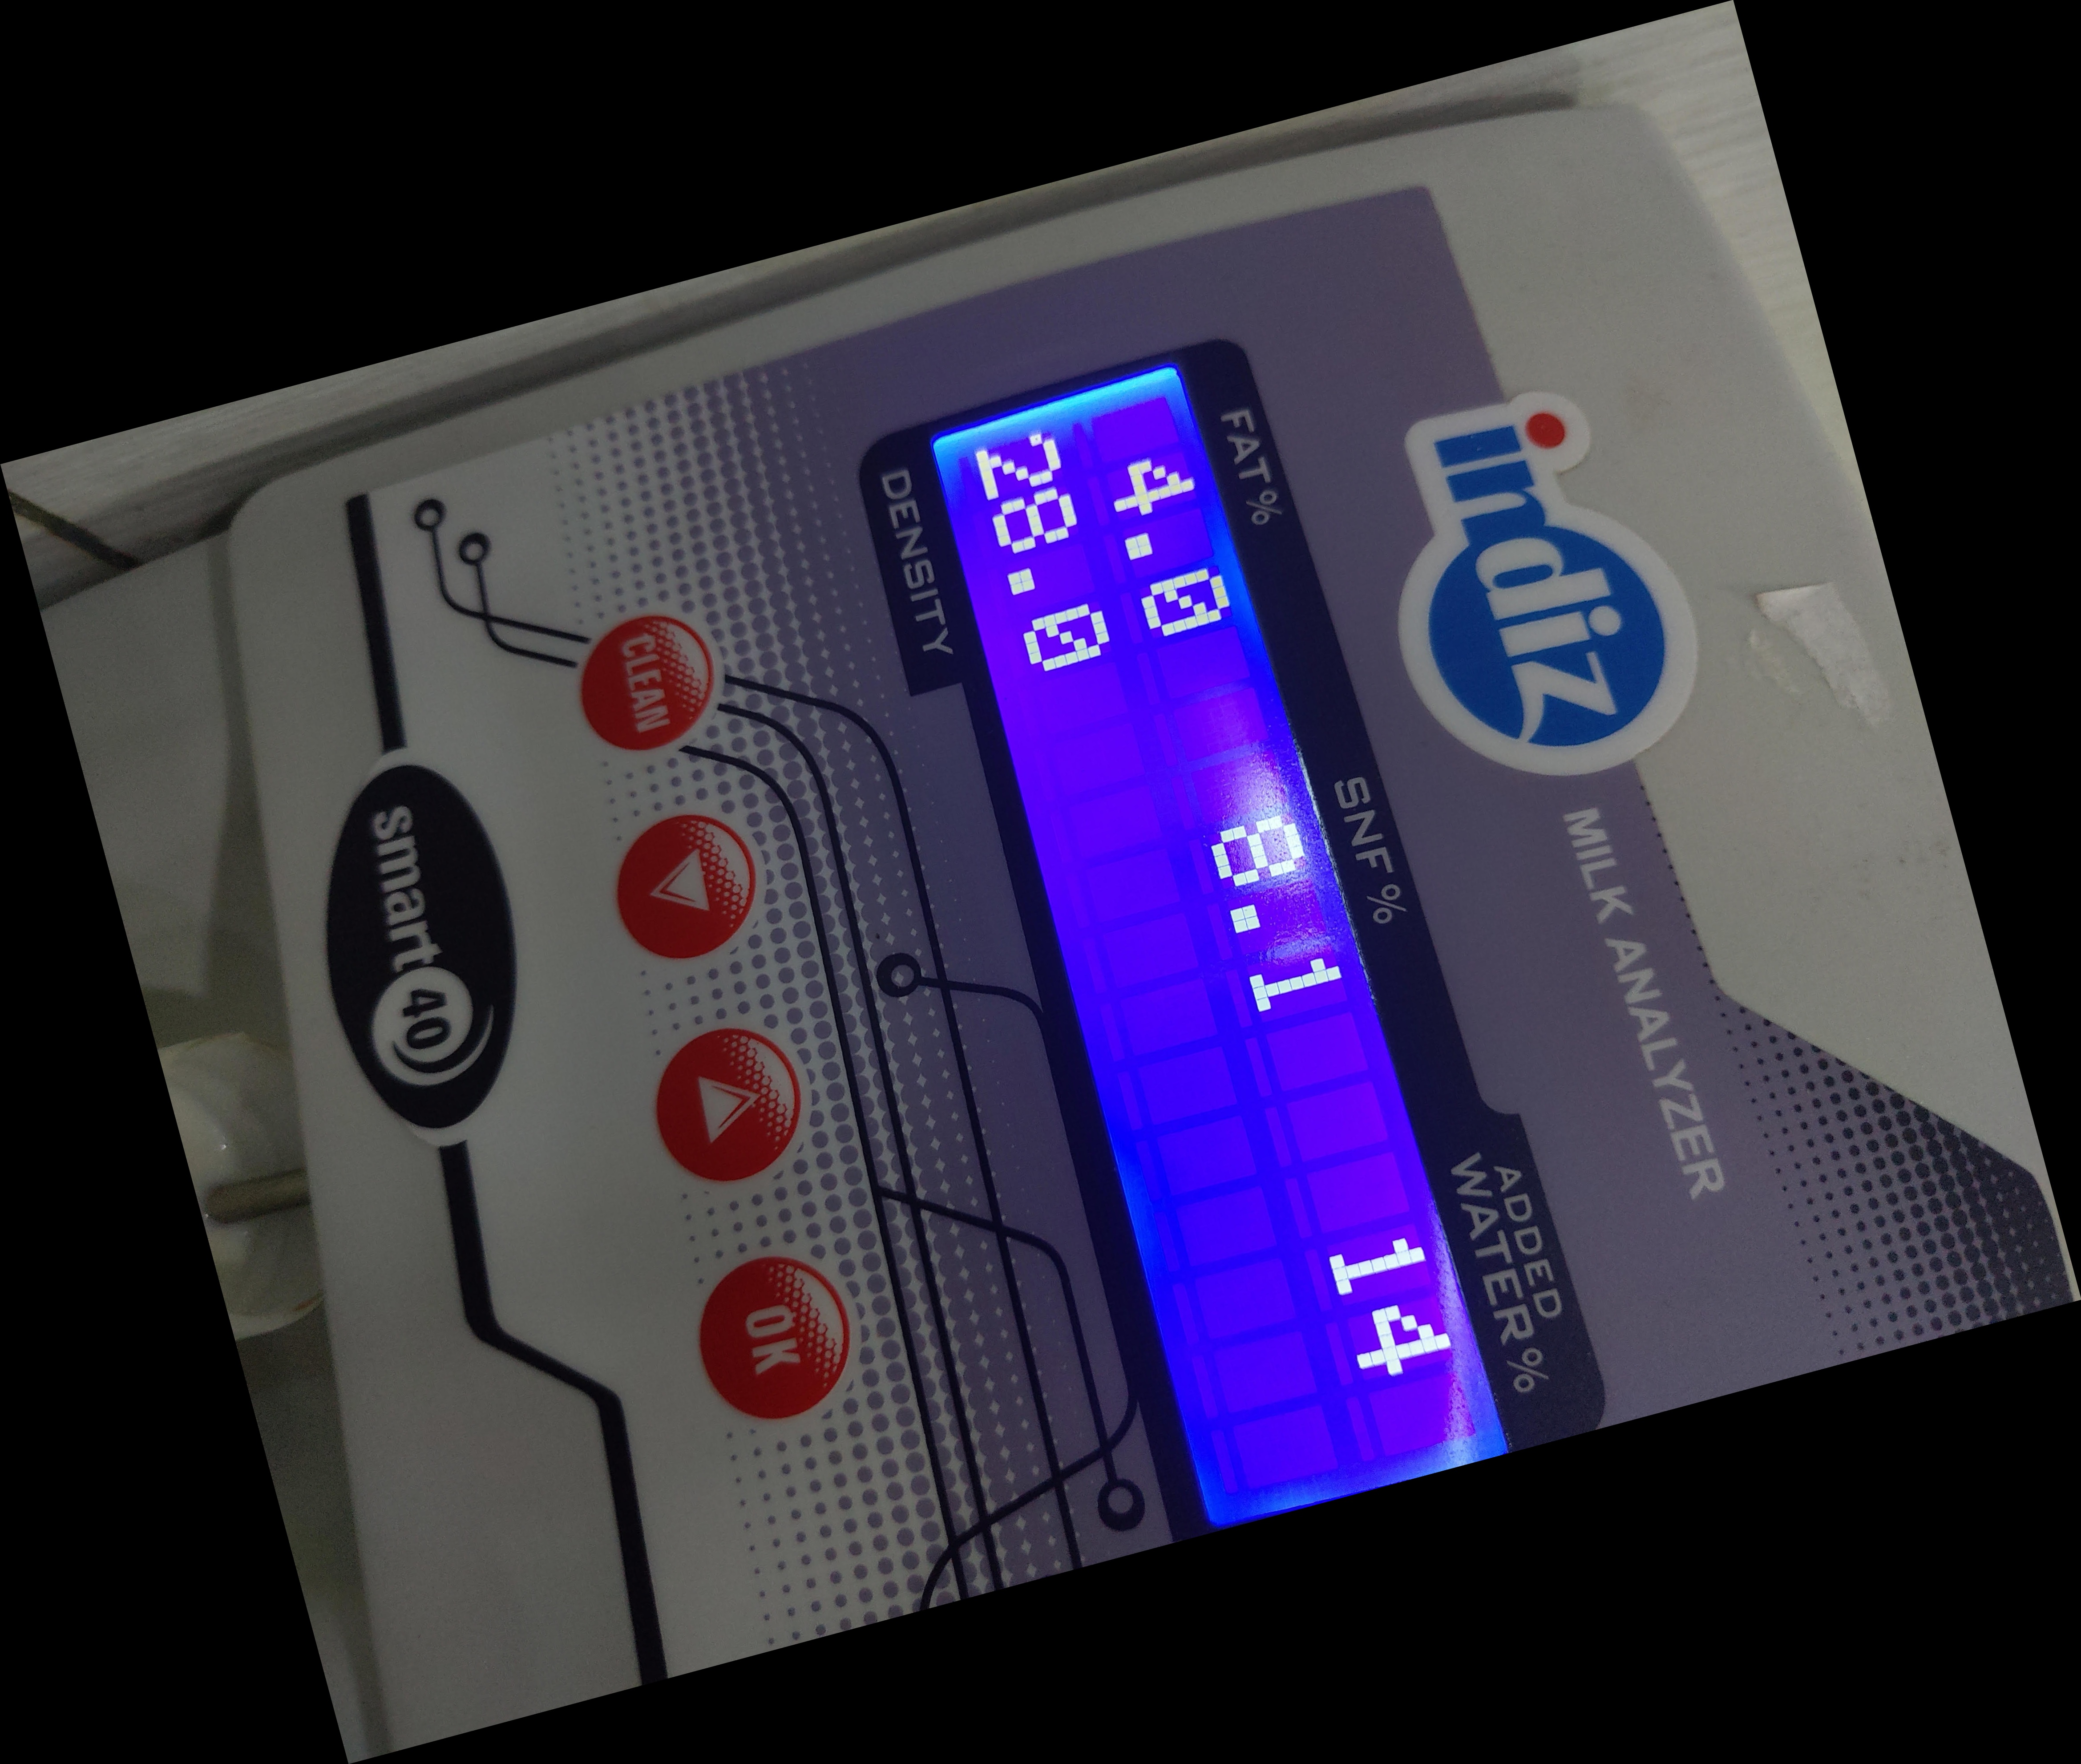lcd: (884, 308, 1512, 1566)
